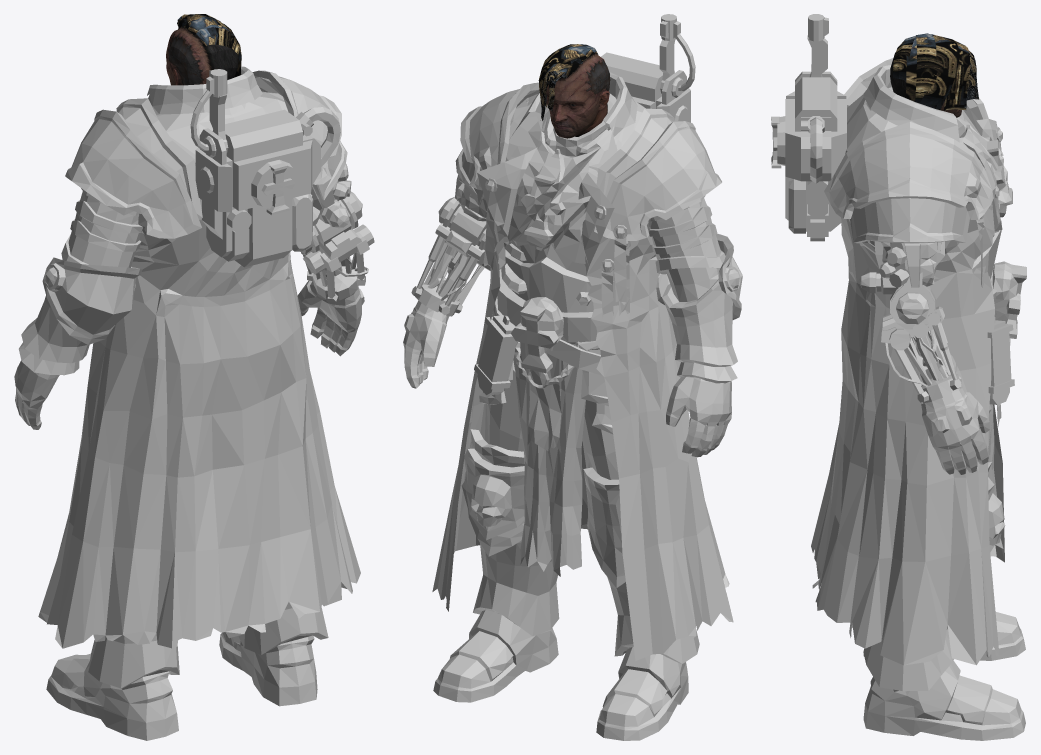
The model's file is Drogan.obj.
3 renders of one model, left to right at view 1: azimuth 30°, elevation 25°; view 2: azimuth 150°, elevation 25°; view 3: azimuth 270°, elevation 25°, orthographic. The views are drawn at different scales.
Parts seen in each view (by area): view 1: Mesh_0270, Mesh_0272, Mesh_0242, Mesh_0266, Mesh_0238, Mesh_0268, Mesh_0502; view 2: Mesh_0272, Mesh_0270, Mesh_0271, Mesh_0242, Mesh_0266, Mesh_0238, Mesh_0268, Mesh_0243, Mesh_0241; view 3: Mesh_0270, Mesh_0272, Mesh_0238, Mesh_0266, Mesh_0512, Mesh_0506, Mesh_0242, Mesh_0503, Mesh_0271, Mesh_0502, Mesh_0505, Mesh_0268.
Boxes of the visible parts, x1=… form: Mesh_0270: x1=38, y1=66, x2=360, y2=648; Mesh_0272: x1=14, y1=69, x2=358, y2=740; Mesh_0242: x1=65, y1=98, x2=202, y2=238; Mesh_0266: x1=297, y1=191, x2=374, y2=356; Mesh_0238: x1=252, y1=70, x2=347, y2=200; Mesh_0268: x1=166, y1=25, x2=238, y2=85; Mesh_0502: x1=196, y1=27, x2=241, y2=60; Mesh_0272: x1=433, y1=14, x2=742, y2=740; Mesh_0270: x1=432, y1=71, x2=733, y2=660; Mesh_0271: x1=513, y1=342, x2=585, y2=576; Mesh_0242: x1=594, y1=108, x2=721, y2=240; Mesh_0266: x1=403, y1=197, x2=490, y2=388; Mesh_0238: x1=455, y1=82, x2=539, y2=205; Mesh_0268: x1=546, y1=53, x2=610, y2=138; Mesh_0243: x1=483, y1=178, x2=630, y2=318; Mesh_0241: x1=613, y1=225, x2=627, y2=304; Mesh_0270: x1=811, y1=65, x2=1004, y2=665; Mesh_0272: x1=771, y1=14, x2=1026, y2=740; Mesh_0238: x1=824, y1=121, x2=993, y2=243; Mesh_0266: x1=881, y1=292, x2=990, y2=474; Mesh_0512: x1=920, y1=34, x2=959, y2=109; Mesh_0506: x1=915, y1=33, x2=943, y2=109; Mesh_0242: x1=844, y1=58, x2=1003, y2=155; Mesh_0503: x1=943, y1=37, x2=969, y2=110; Mesh_0271: x1=988, y1=404, x2=1003, y2=556; Mesh_0502: x1=893, y1=36, x2=915, y2=80; Mesh_0505: x1=905, y1=37, x2=916, y2=101; Mesh_0268: x1=890, y1=52, x2=961, y2=117.
Bounding box in the file's own units: 121 × 230 × 81.6.
